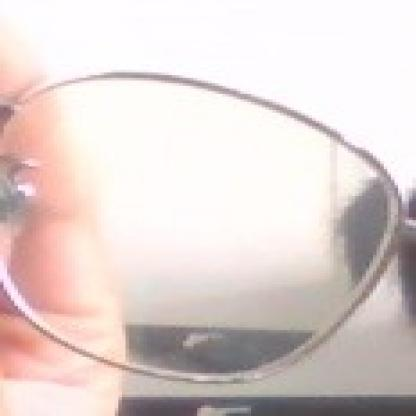not trash: (0, 72, 399, 388)
